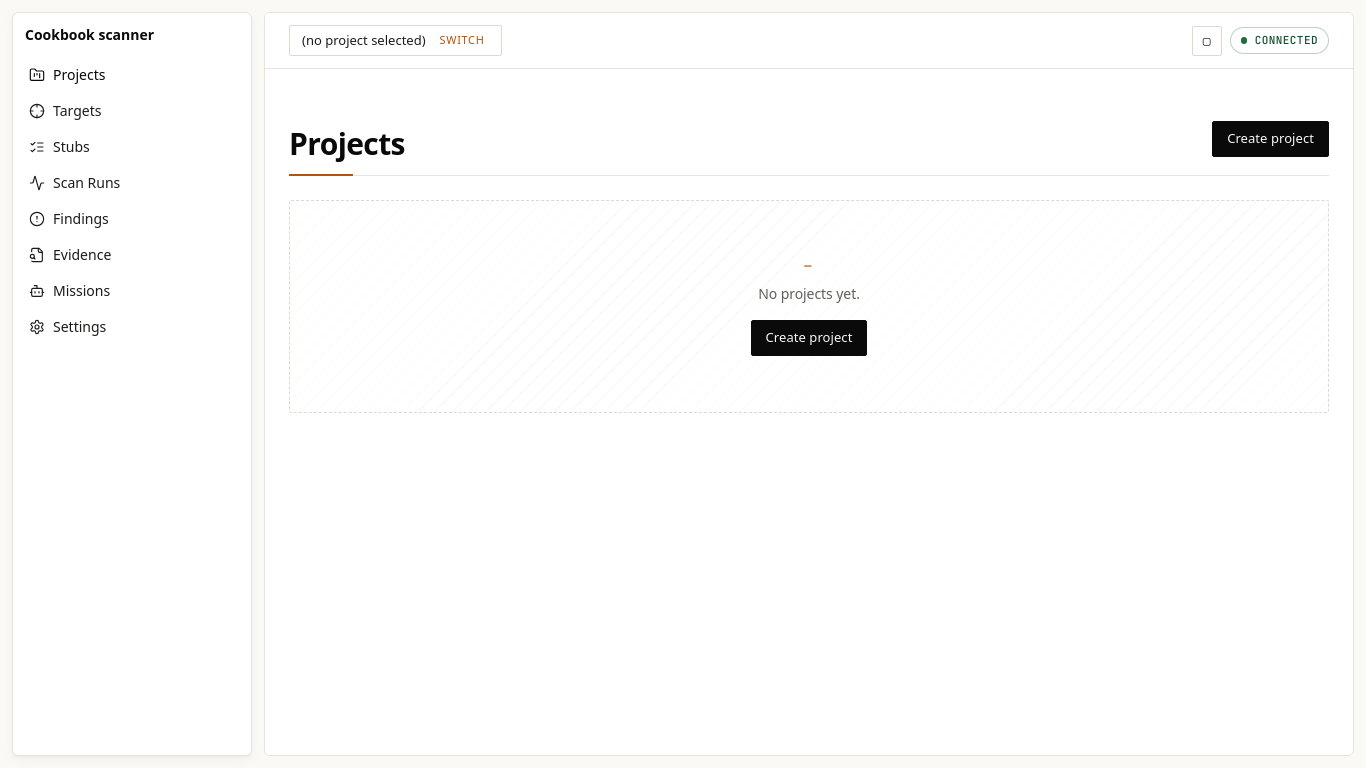
end-to-end · projects › creates a project and lands on a populated list
Check: the text "No projects yet." is shown, box [758, 257, 860, 304]
Step 1. Click the link with test id "page-header-create" → (1271, 139), box [1212, 121, 1329, 157]
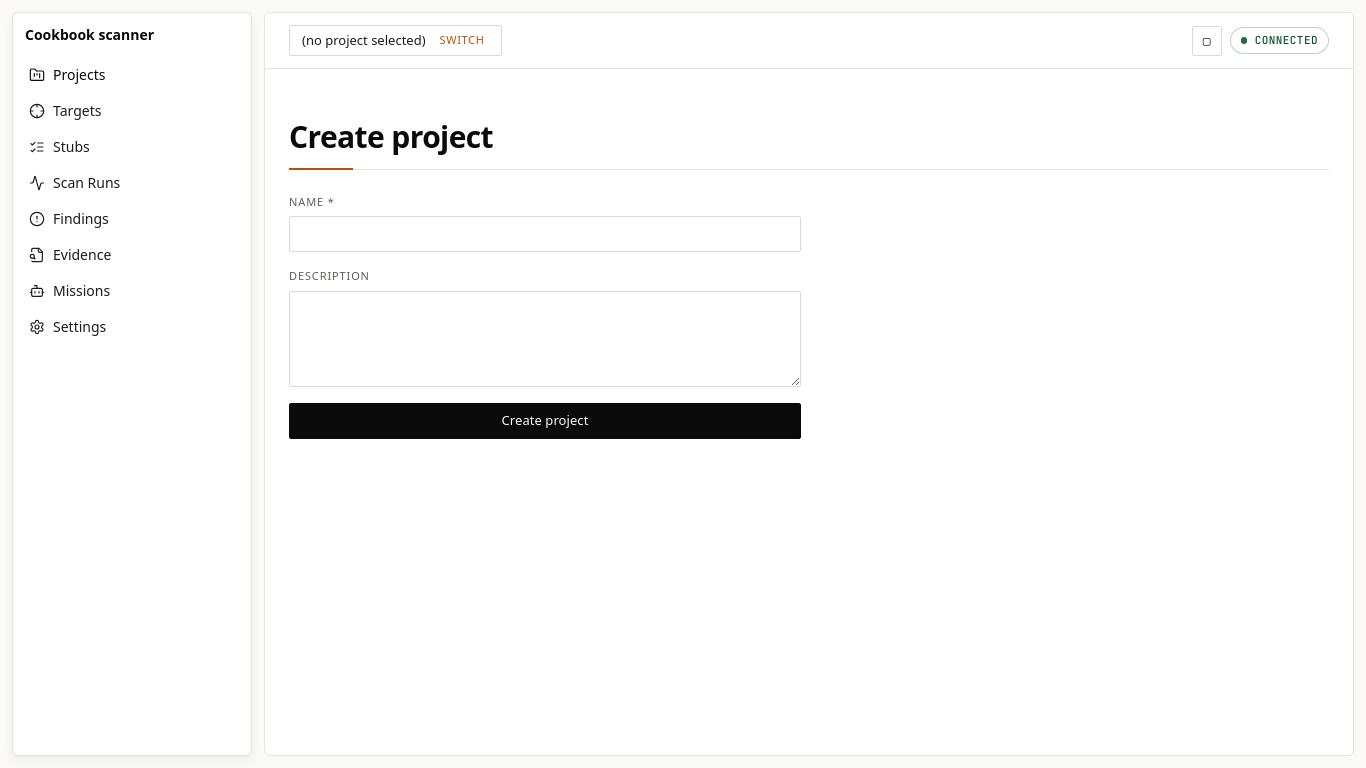
Step 2. Type "Local Lab" into the field labelled "Name *" → (545, 234), box [289, 216, 801, 252]
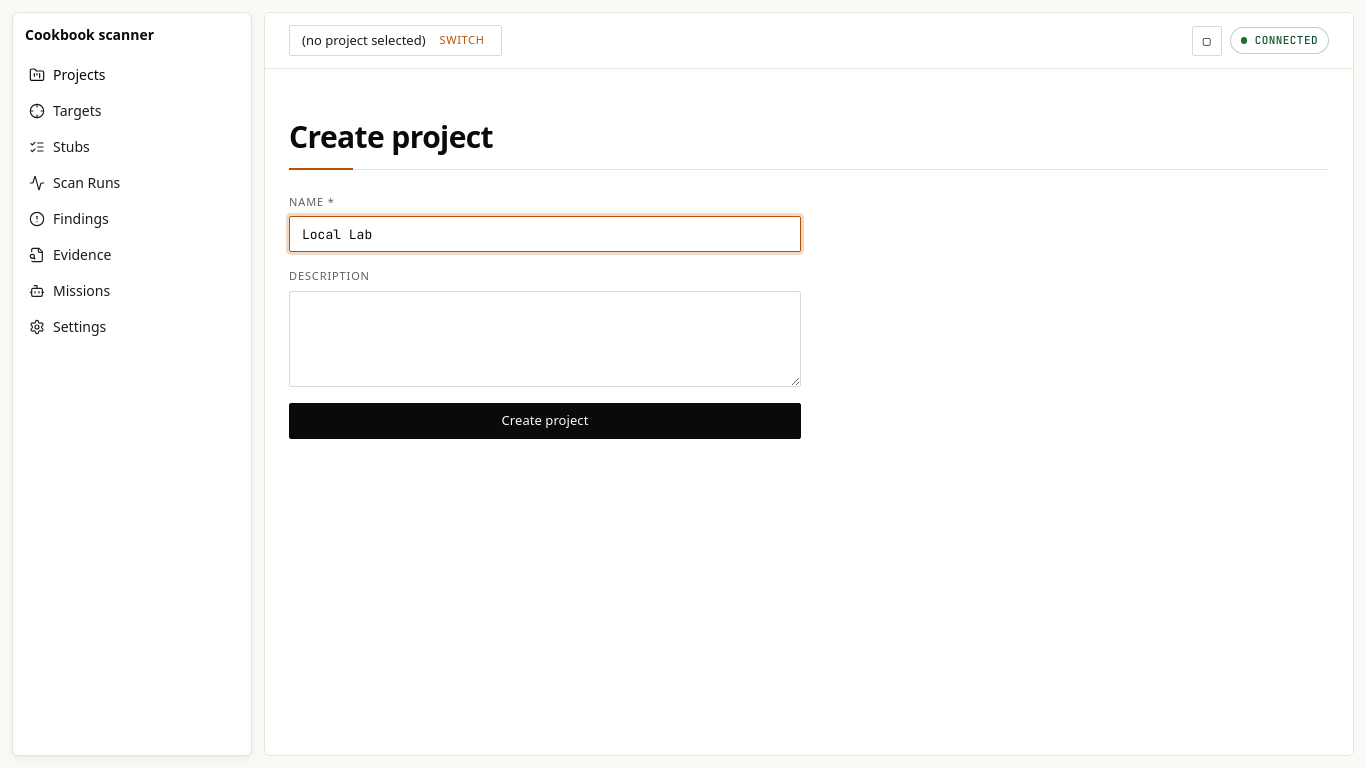
Step 3. Type "lab" into the text box labelled "Description" → (545, 338), box [289, 290, 801, 386]
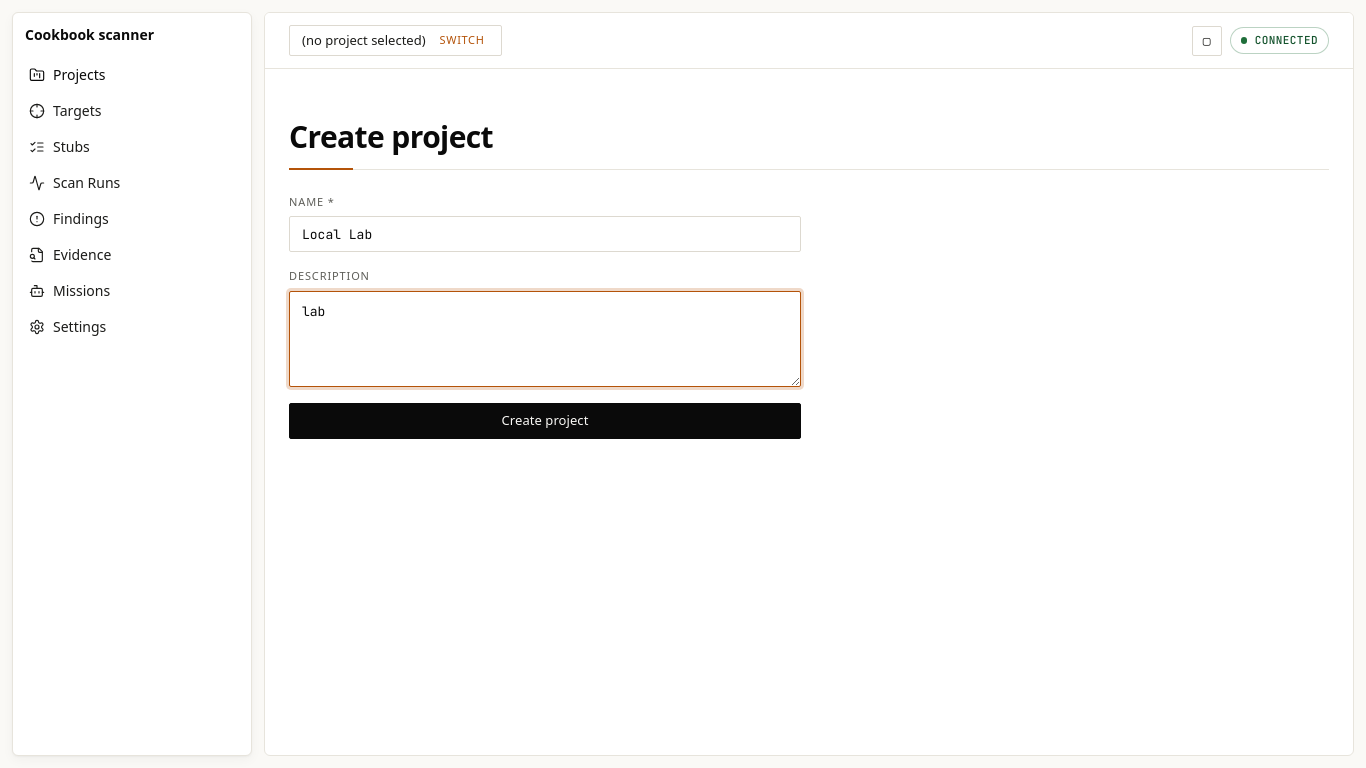
Step 4. Click the button "Create project" → (545, 420), box [289, 402, 801, 438]
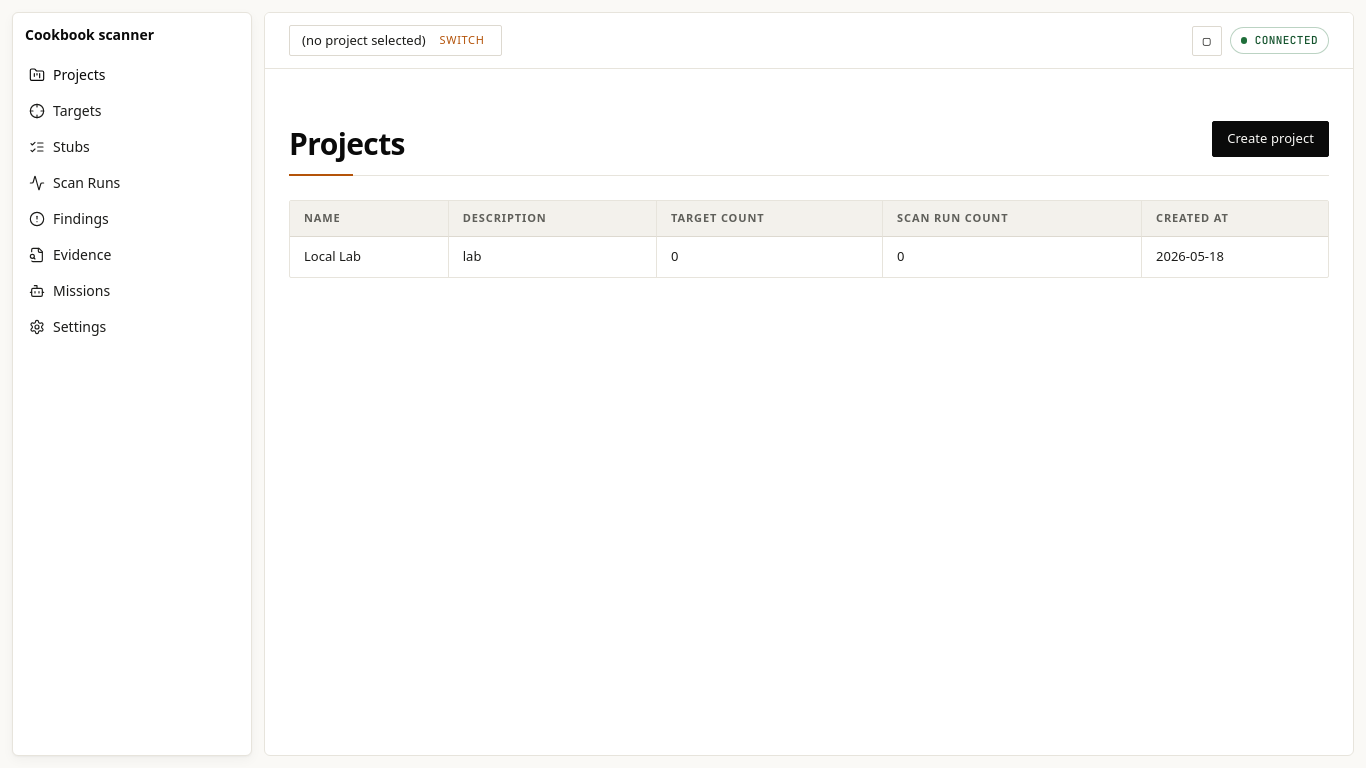
Check: the text "Local Lab" is shown, box [290, 237, 449, 277]
